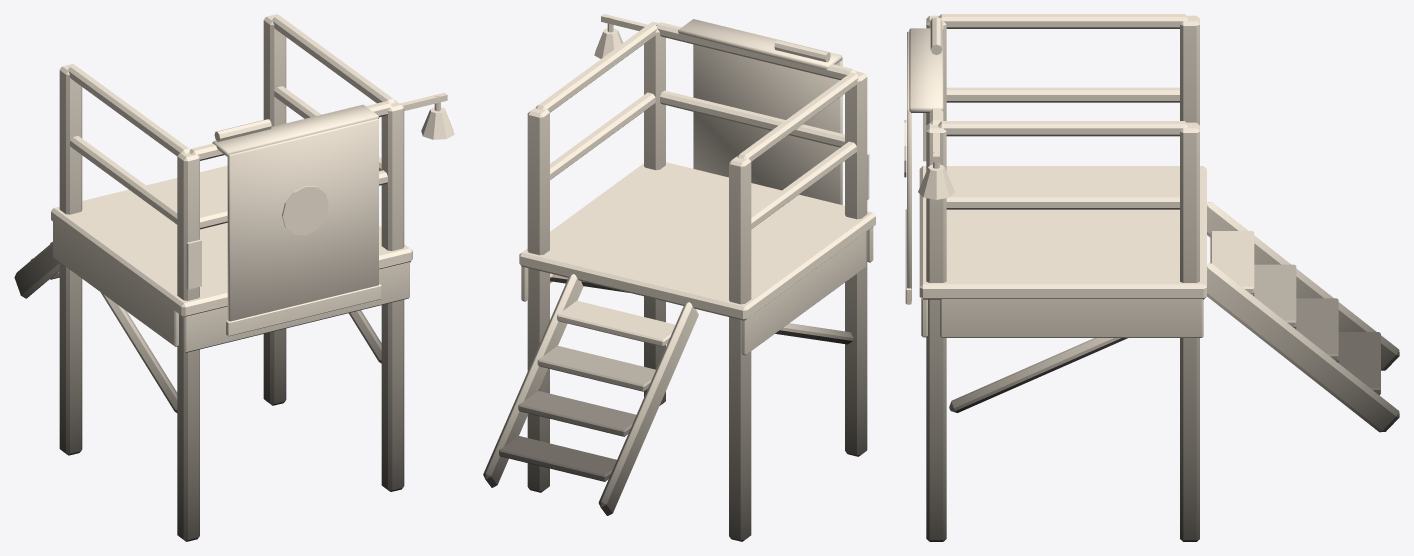
Rendered from SM_VK_Prop_CrierStand.fbx.
3 views of the same model, side by side, from view 1: azimuth 30°, elevation 25°; view 2: azimuth 150°, elevation 25°; view 3: azimuth 270°, elevation 25° (orthographic). The views are drawn at different scales.
Visible parts, largest first — view 1: SM_VK_Prop_CrierStand.001; view 2: SM_VK_Prop_CrierStand.001; view 3: SM_VK_Prop_CrierStand.001.
Part boxes in pixels (bbox=[...]): SM_VK_Prop_CrierStand.001: bbox=[14, 14, 454, 541]; SM_VK_Prop_CrierStand.001: bbox=[483, 14, 875, 541]; SM_VK_Prop_CrierStand.001: bbox=[904, 14, 1399, 541].
Bounding box in the file's own units: 2.04 × 2.81 × 2.93.
